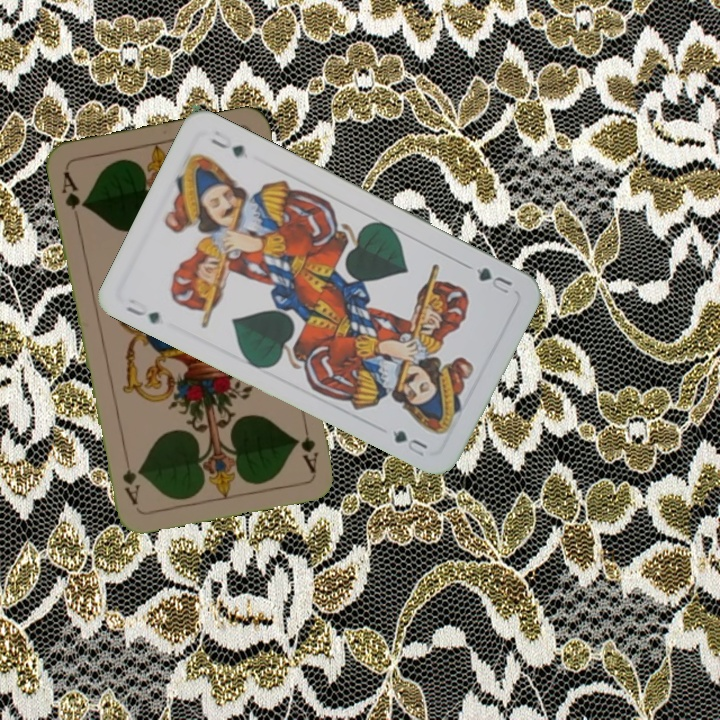GA: (297, 416, 321, 475), (57, 167, 88, 212)
GU: (472, 263, 515, 298), (121, 294, 163, 327)
